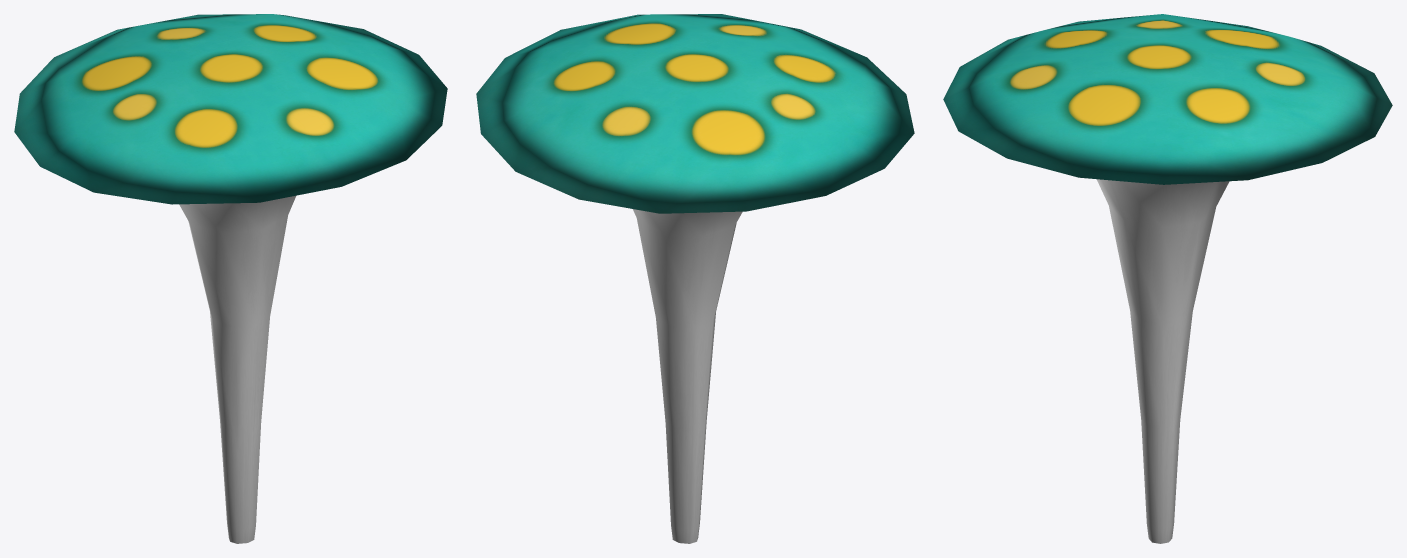
Rendered from Mushroom_Straight3_Blue.fbx.
3 views of the same model, side by side, from view 1: azimuth 30°, elevation 25°; view 2: azimuth 150°, elevation 25°; view 3: azimuth 270°, elevation 25° (orthographic).
Visible parts, largest first — view 1: Mesh; view 2: Mesh; view 3: Mesh.
Part boxes in pixels (box(x1,y1,x2,y2)): Mesh: box(14, 14, 447, 543); Mesh: box(476, 14, 914, 543); Mesh: box(943, 14, 1392, 543).
Bounding box in the file's own units: 228 × 273 × 232.
